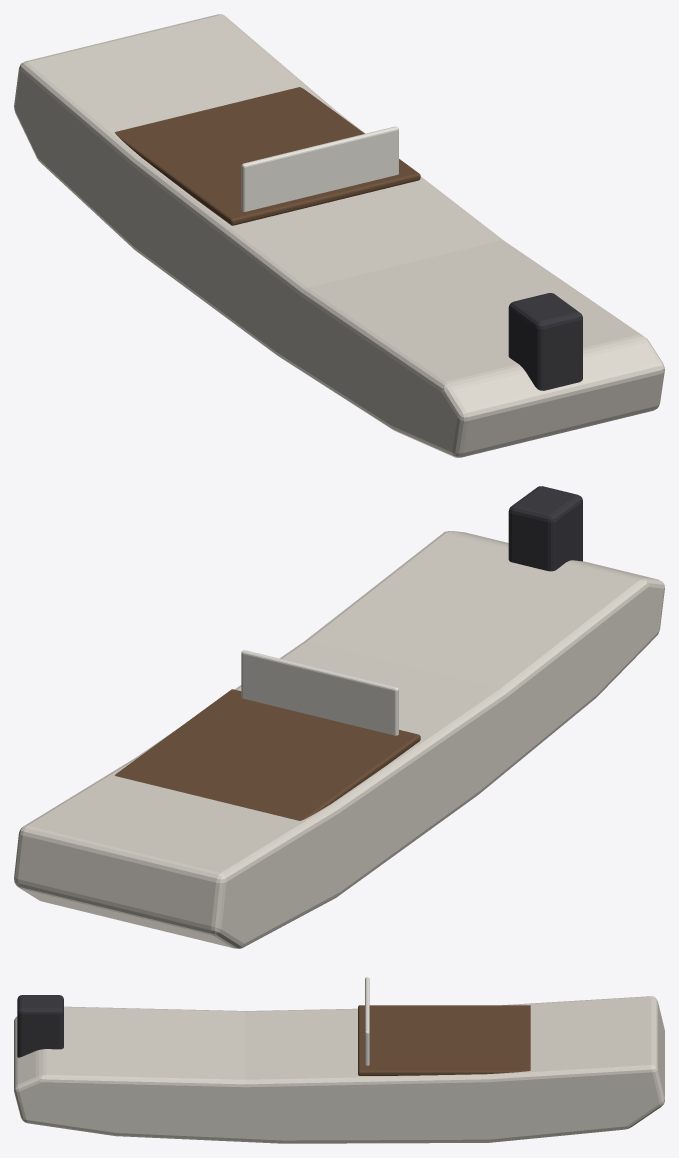
Rendered from boat-tender.glb.
The picture shows the model from 3 angles, top to bottom: view 1: azimuth 30°, elevation 25°; view 2: azimuth 150°, elevation 25°; view 3: azimuth 270°, elevation 25°; orthographic projection. The views are drawn at different scales.
Parts seen in each view (by area): view 1: tender_hull, tender_deck, tender_screen, tender_engine; view 2: tender_hull, tender_deck, tender_screen, tender_engine; view 3: tender_hull, tender_deck, tender_engine, tender_screen.
Part boxes in pixels (x1,y1,x2,y2): tender_hull: (14, 14, 664, 457); tender_deck: (114, 87, 420, 225); tender_screen: (241, 126, 398, 211); tender_engine: (508, 293, 582, 390); tender_hull: (14, 531, 664, 948); tender_deck: (115, 689, 420, 820); tender_screen: (241, 650, 398, 735); tender_engine: (508, 486, 582, 571); tender_hull: (14, 996, 664, 1143); tender_deck: (358, 1005, 530, 1075); tender_engine: (17, 995, 63, 1057); tender_screen: (365, 977, 369, 1065).
Size of the model in its own units: 1.85 by 1.27 by 6.97.
